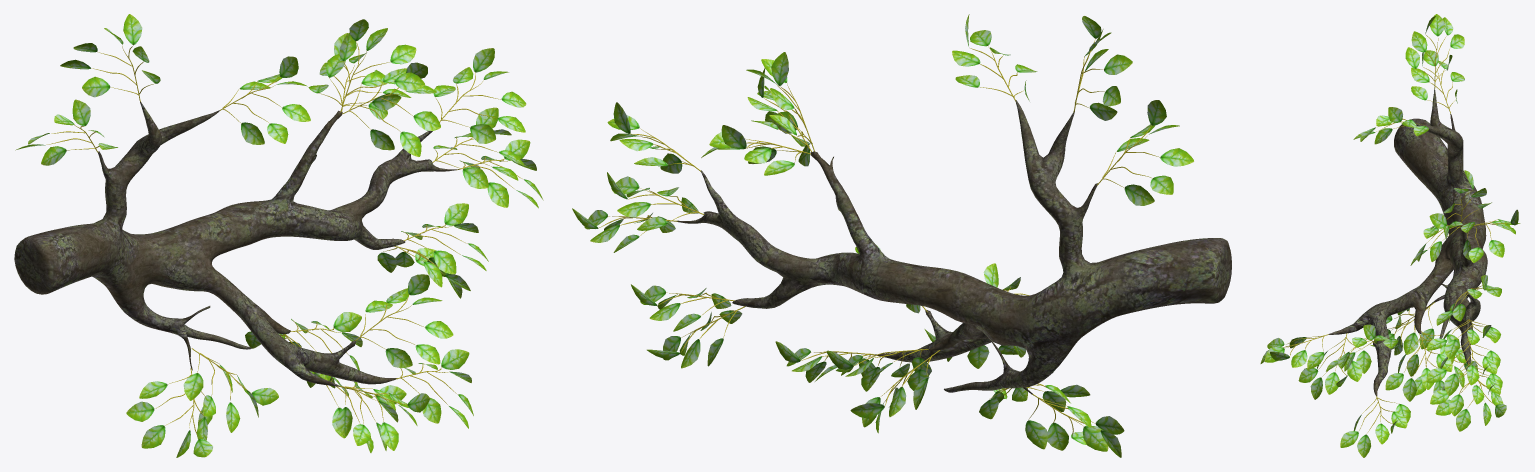
File: tree_branch-transformed.glb
3 renders of one model, left to right at view 1: azimuth 30°, elevation 25°; view 2: azimuth 150°, elevation 25°; view 3: azimuth 270°, elevation 25°, orthographic. The views are drawn at different scales.
Visible parts, largest first — view 1: Object_4, Object_6, Object_7; view 2: Object_4, Object_6, Object_7; view 3: Object_6, Object_4, Object_7.
Boxes of the visible parts, x1=… form: Object_4: x1=14, y1=101, x2=459, y2=386; Object_6: x1=15, y1=14, x2=543, y2=457; Object_7: x1=46, y1=41, x2=523, y2=438; Object_4: x1=677, y1=100, x2=1231, y2=394; Object_6: x1=572, y1=14, x2=1193, y2=457; Object_7: x1=598, y1=39, x2=1159, y2=437; Object_6: x1=1260, y1=14, x2=1520, y2=457; Object_4: x1=1328, y1=87, x2=1487, y2=396; Object_7: x1=1283, y1=34, x2=1509, y2=434.
Size of the model in its own units: 14.66 by 11.22 by 7.96.
3 materials, 2 textured.
